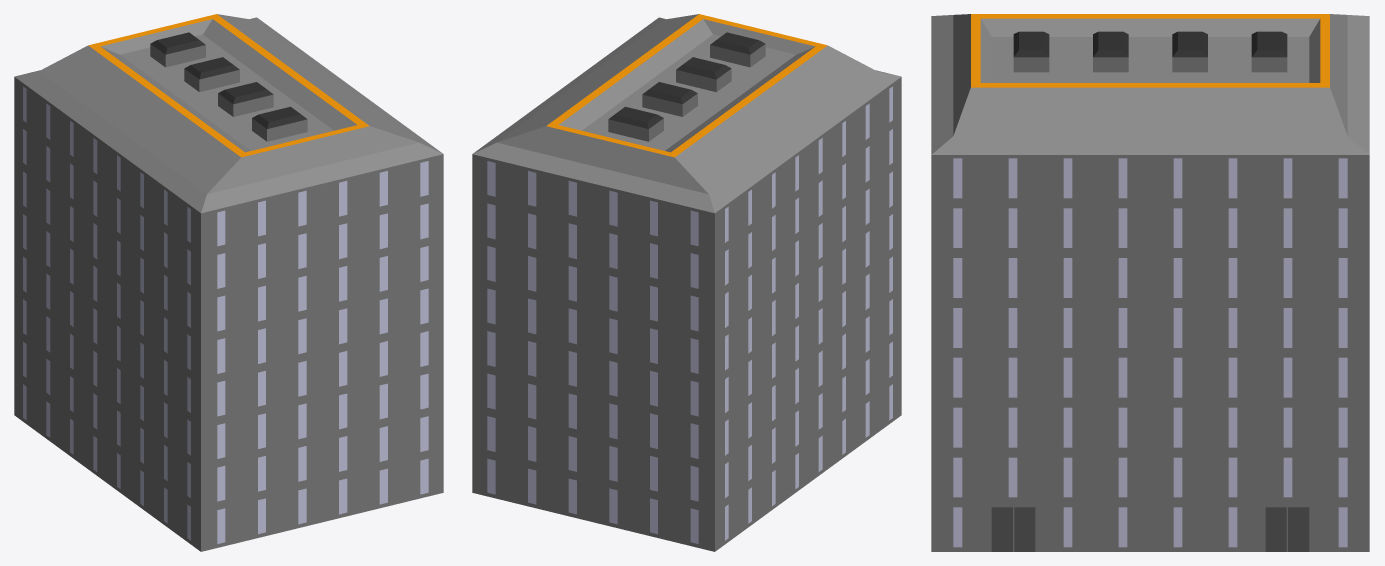
Rendered from Residential_D.fbx.
The picture shows the model from 3 angles, left to right: view 1: azimuth 30°, elevation 25°; view 2: azimuth 150°, elevation 25°; view 3: azimuth 270°, elevation 25°; orthographic projection. The views are drawn at different scales.
Parts seen in each view (by area): view 1: Cube, Cube.001; view 2: Cube, Cube.001; view 3: Cube, Cube.001.
Part boxes in pixels (x1,y1,x2,y2): Cube: [14, 14, 443, 551]; Cube.001: [23, 86, 428, 543]; Cube: [472, 14, 901, 551]; Cube.001: [487, 86, 892, 543]; Cube: [931, 14, 1369, 551]; Cube.001: [953, 158, 1347, 547].
Size of the model in its own units: 3.01 by 4.45 by 4.02.
